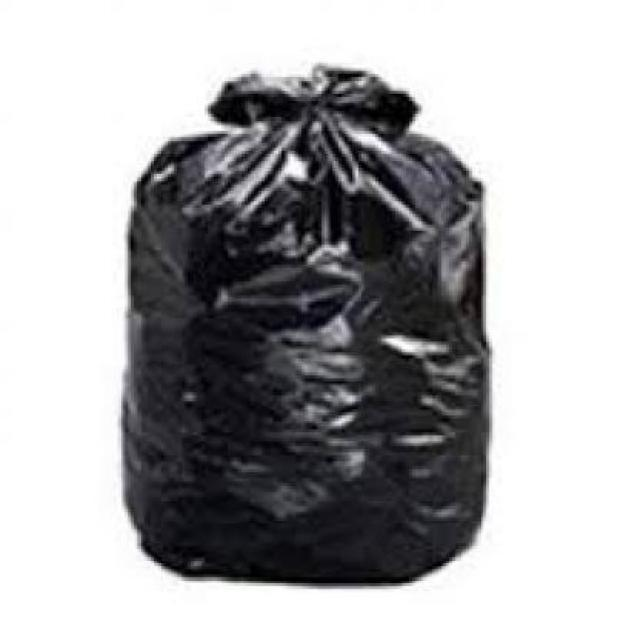garbage: (88, 40, 529, 583)
